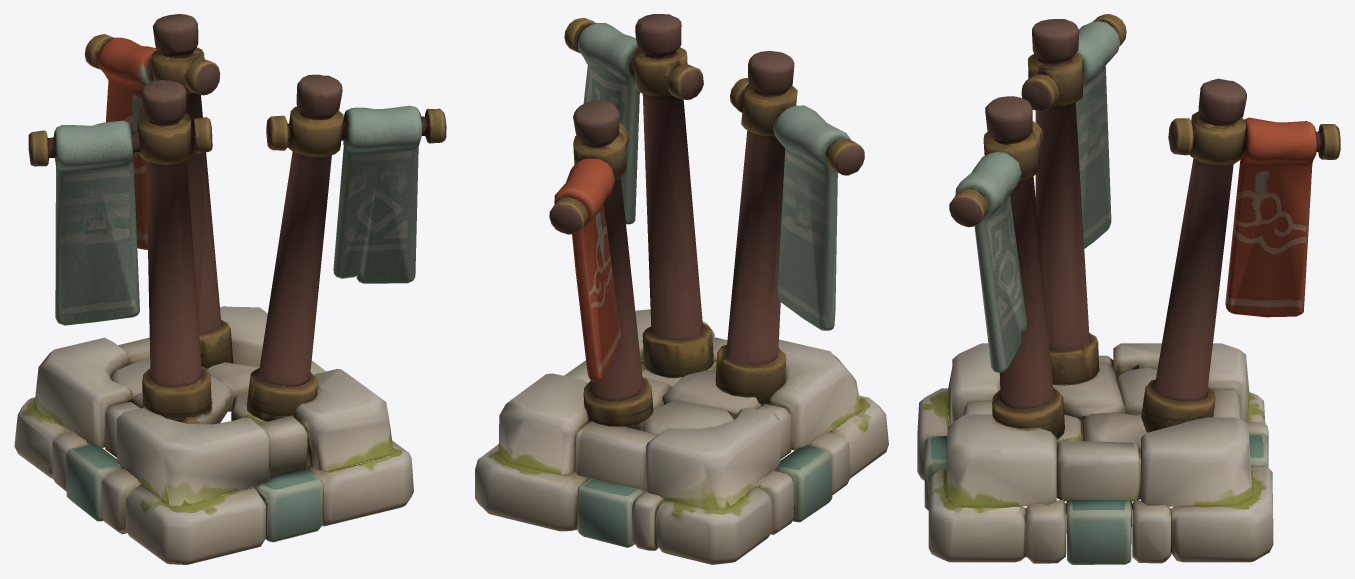
Rendered from tripo_convert_a06dd4d1-4b0a-4df5-ba15-95b5d20adf27.fbx.
The picture shows the model from 3 angles, left to right: view 1: azimuth 30°, elevation 25°; view 2: azimuth 150°, elevation 25°; view 3: azimuth 270°, elevation 25°; orthographic projection. The views are drawn at different scales.
Visible parts, largest first — view 1: tripo_node_a06dd4d1; view 2: tripo_node_a06dd4d1; view 3: tripo_node_a06dd4d1.
Part boxes in pixels (x1,y1,x2,y2): tripo_node_a06dd4d1: (14, 14, 446, 564); tripo_node_a06dd4d1: (475, 14, 888, 564); tripo_node_a06dd4d1: (917, 14, 1340, 564).
Size of the model in its own units: 0.877 by 0.998 by 0.873.
1 material, 1 textured.
